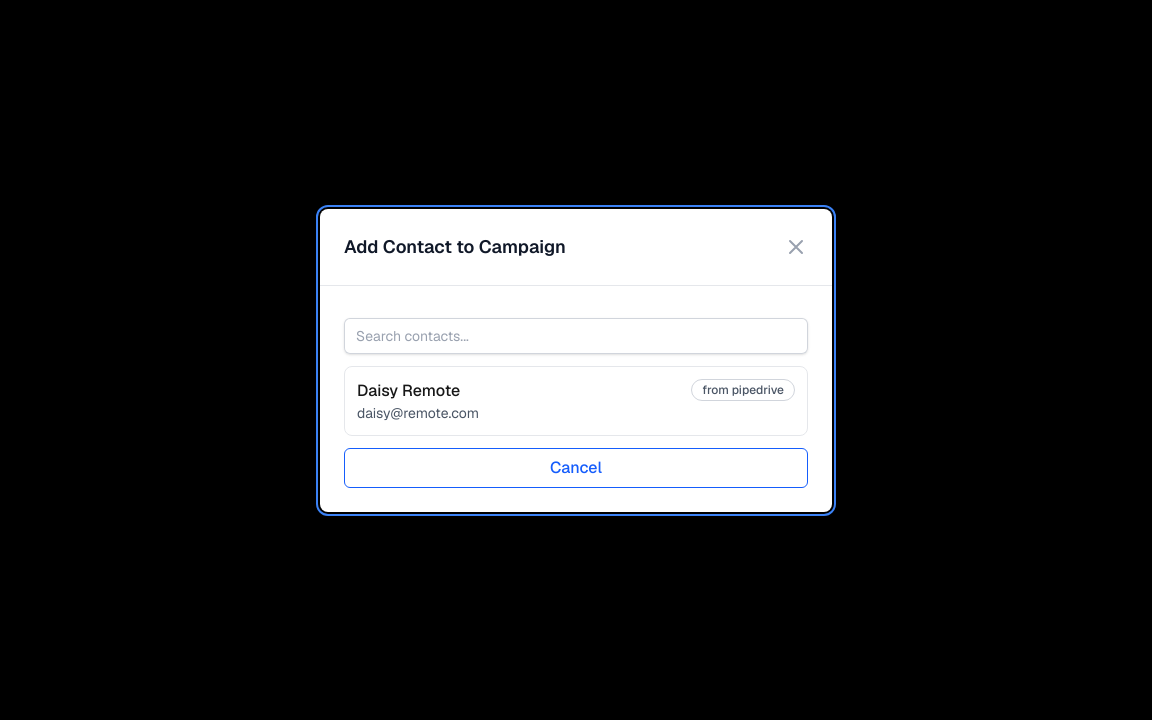
it: AddContactModal - Unified Search › always shows create new contact button when search is non-empty
The image size is (1152, 720).
Type "Zelda" into the field with placeholder "Search contacts...".
click(576, 336); type("Zelda")  # box x1=344 y1=318 x2=808 y2=354
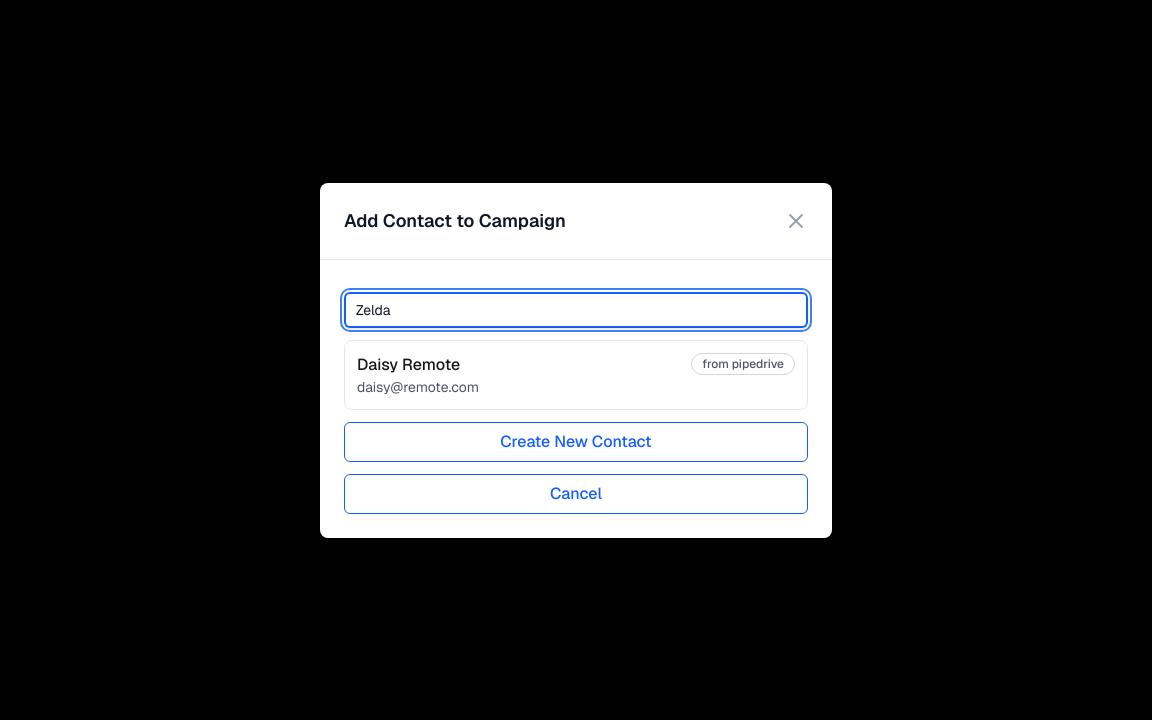
Check: the text "Create New Contact" is shown, box x1=500 y1=430 x2=652 y2=454
